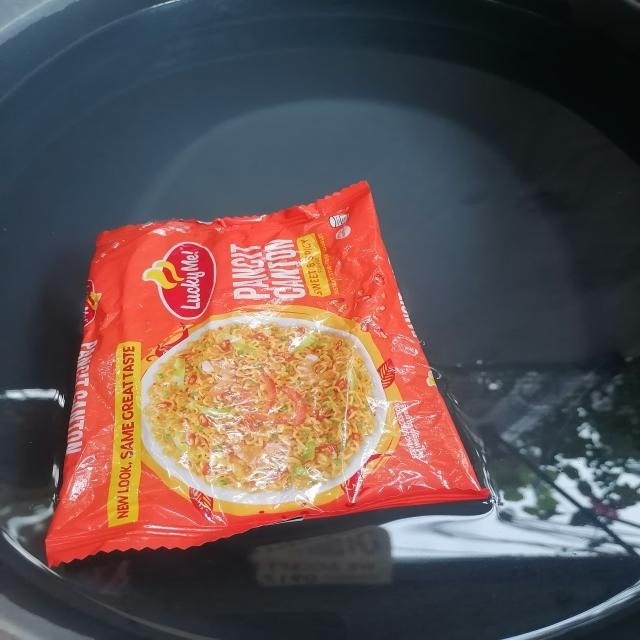Plastic Wrapper: (0, 168, 512, 578)
